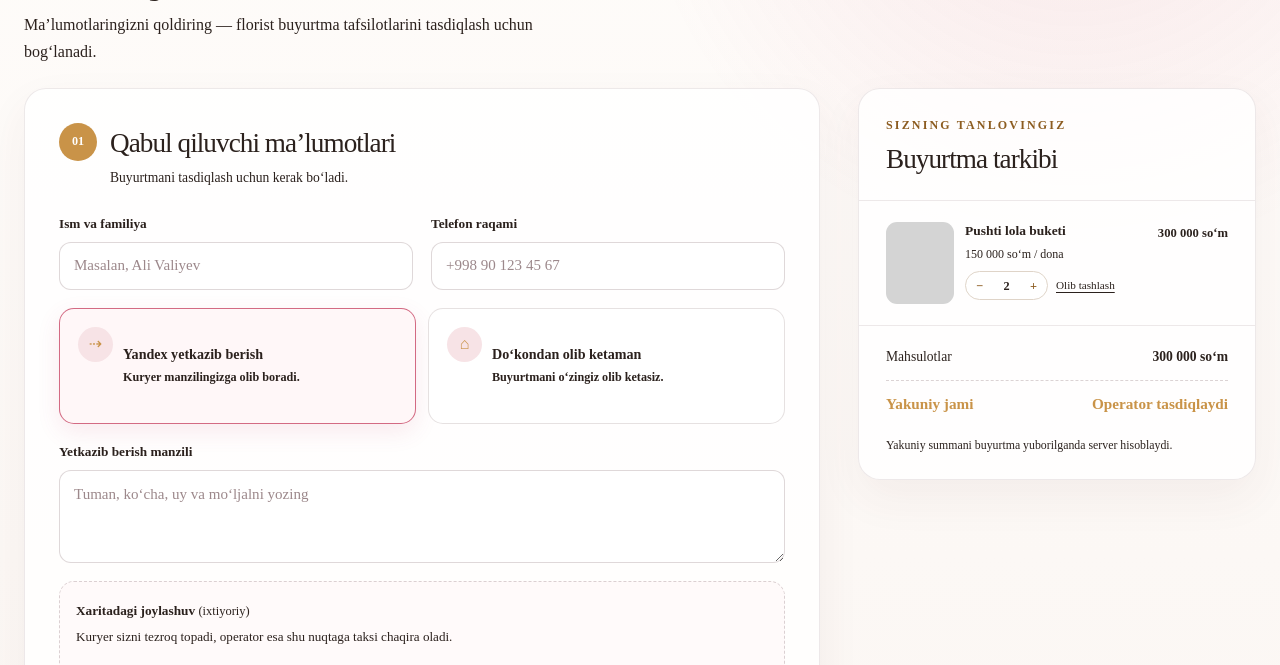
Test case: CheckoutClient › shows where and when to collect
(page scrolled)
Check: the heading "Pushti lola buketi" is shown, box top-left (965, 223), bottom-right (1066, 238)
Click the radio button labelled "⌂ Do‘kondan olib ketaman Buyurtmani o‘zingiz olib ketasiz.": [464, 344] box top-left (428, 308), bottom-right (785, 424)
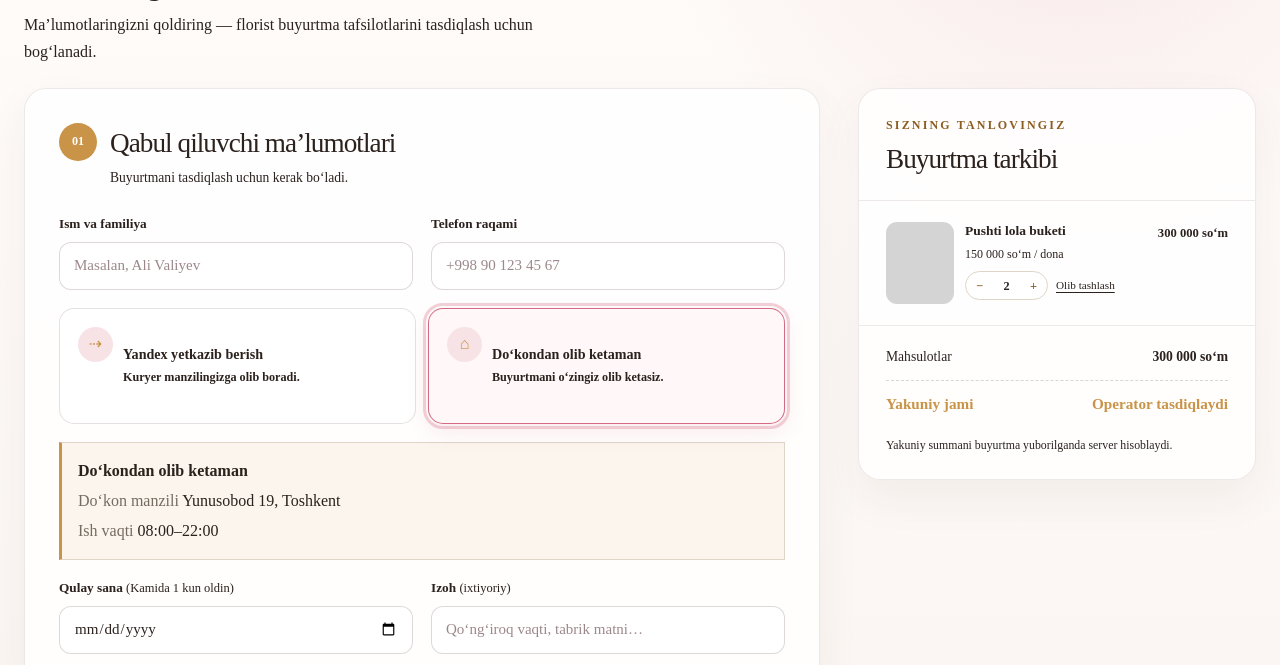
Check: the text "Yunusobod 19, Toshkent" is shown, box top-left (182, 492), bottom-right (340, 509)
Check: the text "08:00–22:00" is shown, box top-left (138, 522), bottom-right (218, 539)
